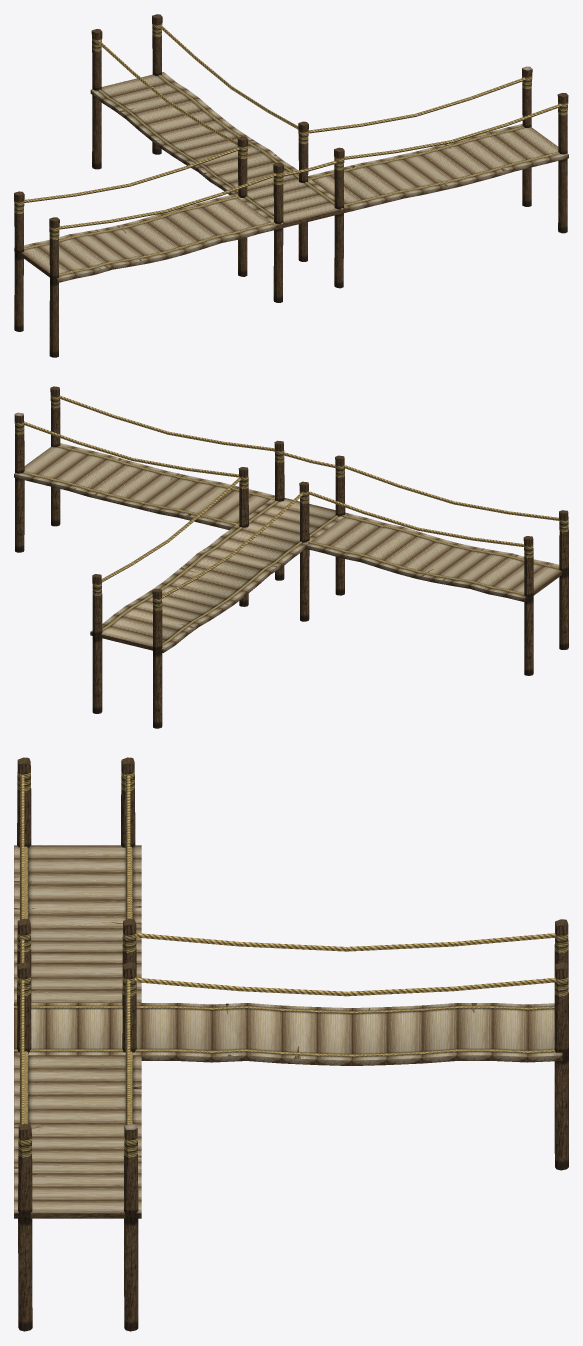
File: p2_platform1_T_LOD0.fbx
3 views of the same model, one above another, from view 1: azimuth 30°, elevation 25°; view 2: azimuth 150°, elevation 25°; view 3: azimuth 270°, elevation 25° (orthographic). The views are drawn at different scales.
Visible parts, largest first — view 1: polymsh; view 2: polymsh; view 3: polymsh.
Boxes of the visible parts, left/top/right/bottom form: polymsh: left=14, top=14, right=568, bottom=357; polymsh: left=14, top=386, right=568, bottom=728; polymsh: left=14, top=757, right=568, bottom=1331.
Bounding box in the file's own units: 708 × 179 × 446.
